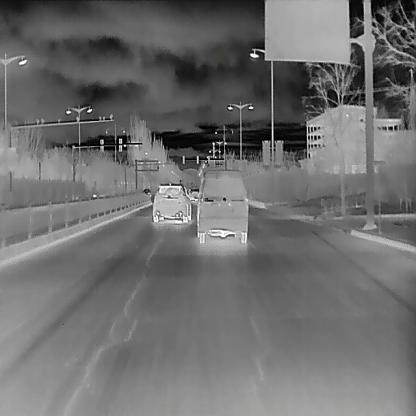car: (191, 168, 248, 244), (151, 182, 193, 223), (187, 187, 200, 205), (142, 187, 152, 197)
